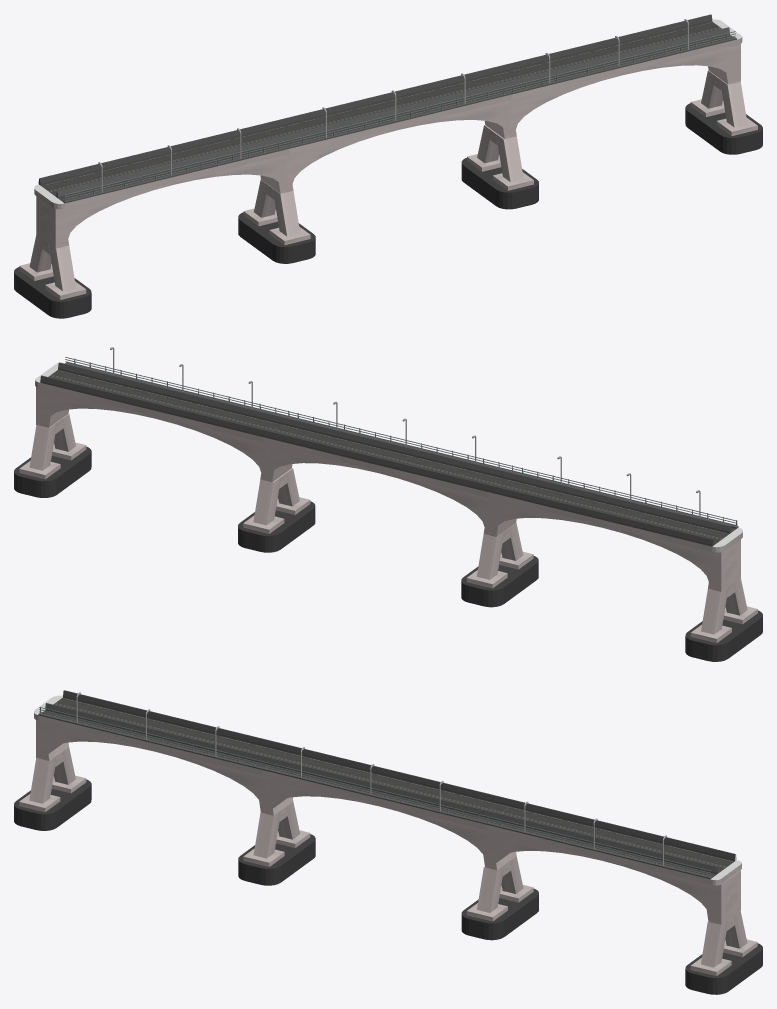
Rendered from BridgeShort.fbx.
The picture shows the model from 3 angles, top to bottom: view 1: azimuth 30°, elevation 25°; view 2: azimuth 150°, elevation 25°; view 3: azimuth 330°, elevation 25°; orthographic projection.
Visible parts, largest first — view 1: Cube.076, Cube.084, Cube.081, Cube.085, Cube.088, Cube.080, Cube.077, Cube.078, Cube.079, Cube.086, Cube.087, Cube.075 (+5 smaller); view 2: Cube.076, Cube.084, Cube.081, Cube.085, Cube.088, Cube.080, Cube.077, Cube.079, Cube.086, Cube.078, Cube.087, Cube.075 (+5 smaller); view 3: Cube.084, Cube.076, Cube.081, Cube.080, Cube.077, Cube.085, Cube.088, Cube.087, Cube.079, Cube.086, Cube.078, Cube.083 (+5 smaller).
Boxes of the visible parts, <box> form: Cube.076: <box>34,123,289,248</box>; Cube.084: <box>487,14,742,137</box>; Cube.081: <box>264,69,513,192</box>; Cube.085: <box>467,125,533,190</box>; Cube.088: <box>690,70,757,135</box>; Cube.080: <box>243,180,310,245</box>; Cube.077: <box>19,235,86,299</box>; Cube.078: <box>14,267,91,318</box>; Cube.079: <box>238,212,315,263</box>; Cube.086: <box>461,158,538,209</box>; Cube.087: <box>685,99,762,154</box>; Cube.075: <box>56,136,282,198</box>; Cube.076: <box>488,471,742,591</box>; Cube.084: <box>35,362,288,481</box>; Cube.081: <box>263,417,512,535</box>; Cube.085: <box>243,468,310,533</box>; Cube.088: <box>19,413,86,479</box>; Cube.080: <box>466,522,533,588</box>; Cube.077: <box>690,578,757,642</box>; Cube.079: <box>461,556,538,607</box>; Cube.086: <box>238,501,315,552</box>; Cube.078: <box>685,606,762,661</box>; Cube.087: <box>14,446,91,497</box>; Cube.075: <box>505,471,731,533</box>; Cube.084: <box>486,799,741,924</box>; Cube.076: <box>34,690,287,813</box>; Cube.081: <box>262,745,511,868</box>; Cube.080: <box>243,802,310,866</box>; Cube.077: <box>19,747,86,812</box>; Cube.085: <box>466,856,533,921</box>; Cube.088: <box>690,911,757,976</box>; Cube.087: <box>685,943,762,994</box>; Cube.079: <box>238,834,315,885</box>; Cube.086: <box>461,885,538,940</box>; Cube.078: <box>14,775,91,830</box>; Cube.083: <box>493,812,718,873</box>.
Size of the model in its own units: 3486 by 628 by 403.
38 materials, 13 textured.
